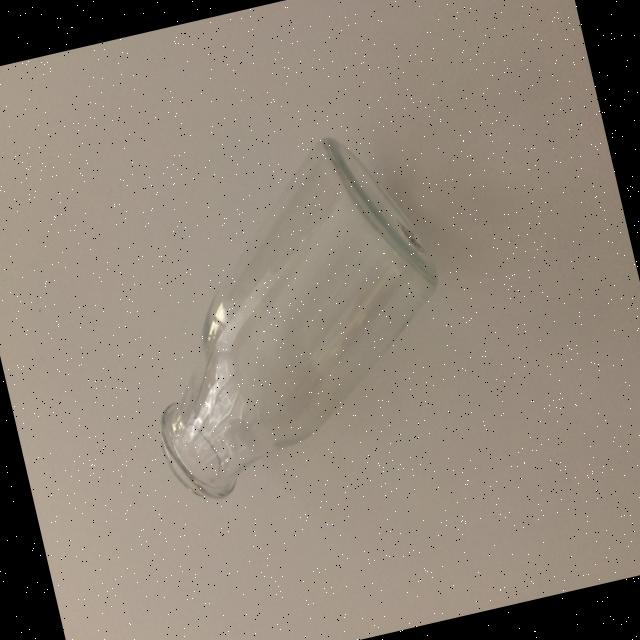glass: (100, 117, 477, 510)
